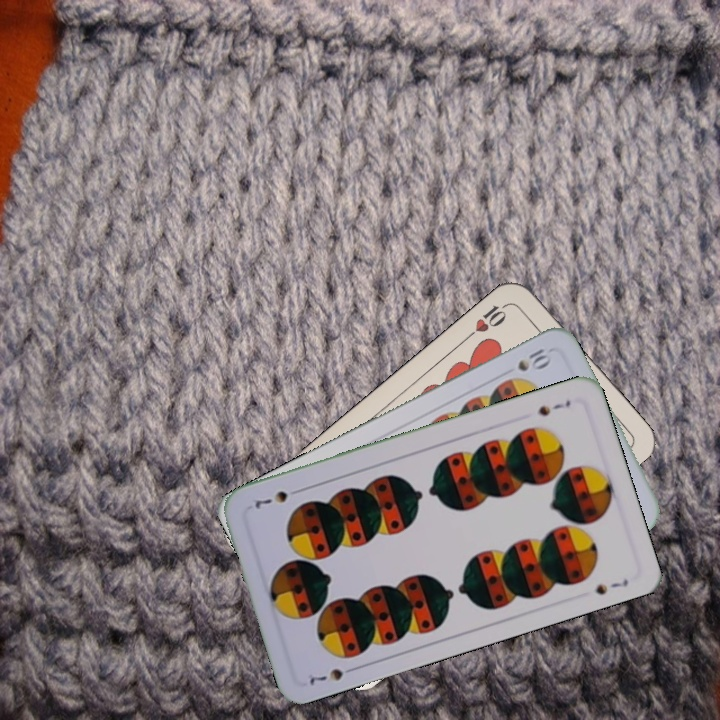H10: (464, 298, 514, 341)
S10: (513, 344, 552, 374)
S7: (305, 662, 360, 688), (533, 395, 573, 419)
